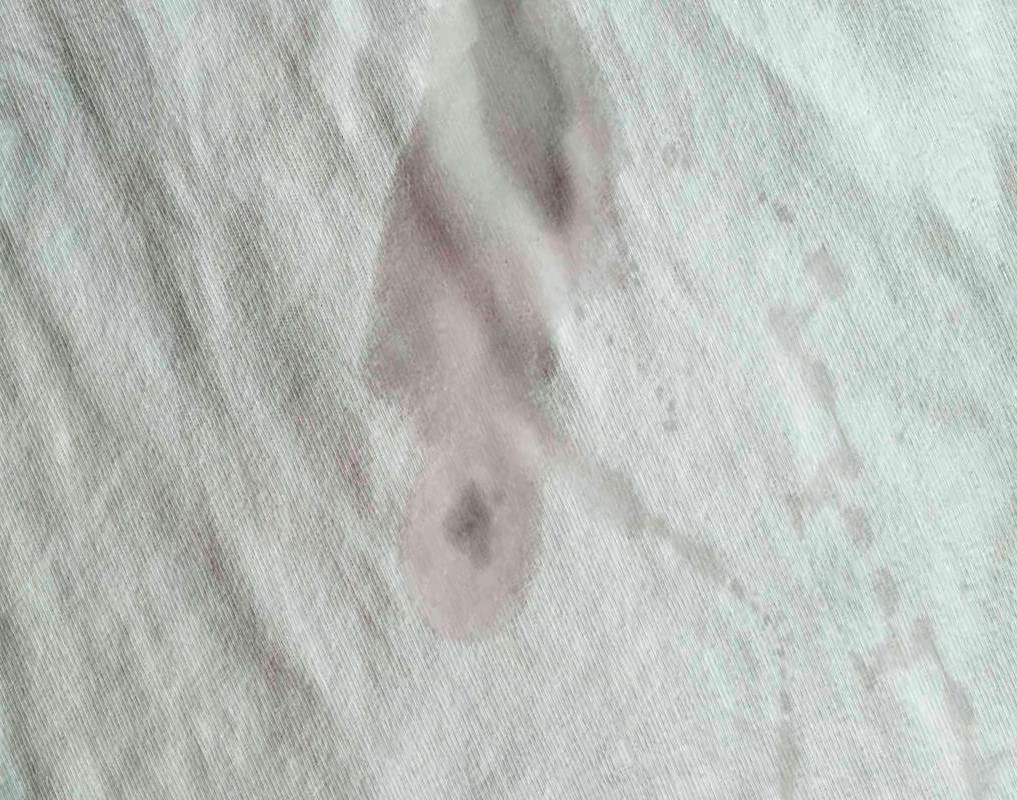stain: (341, 2, 647, 642)
